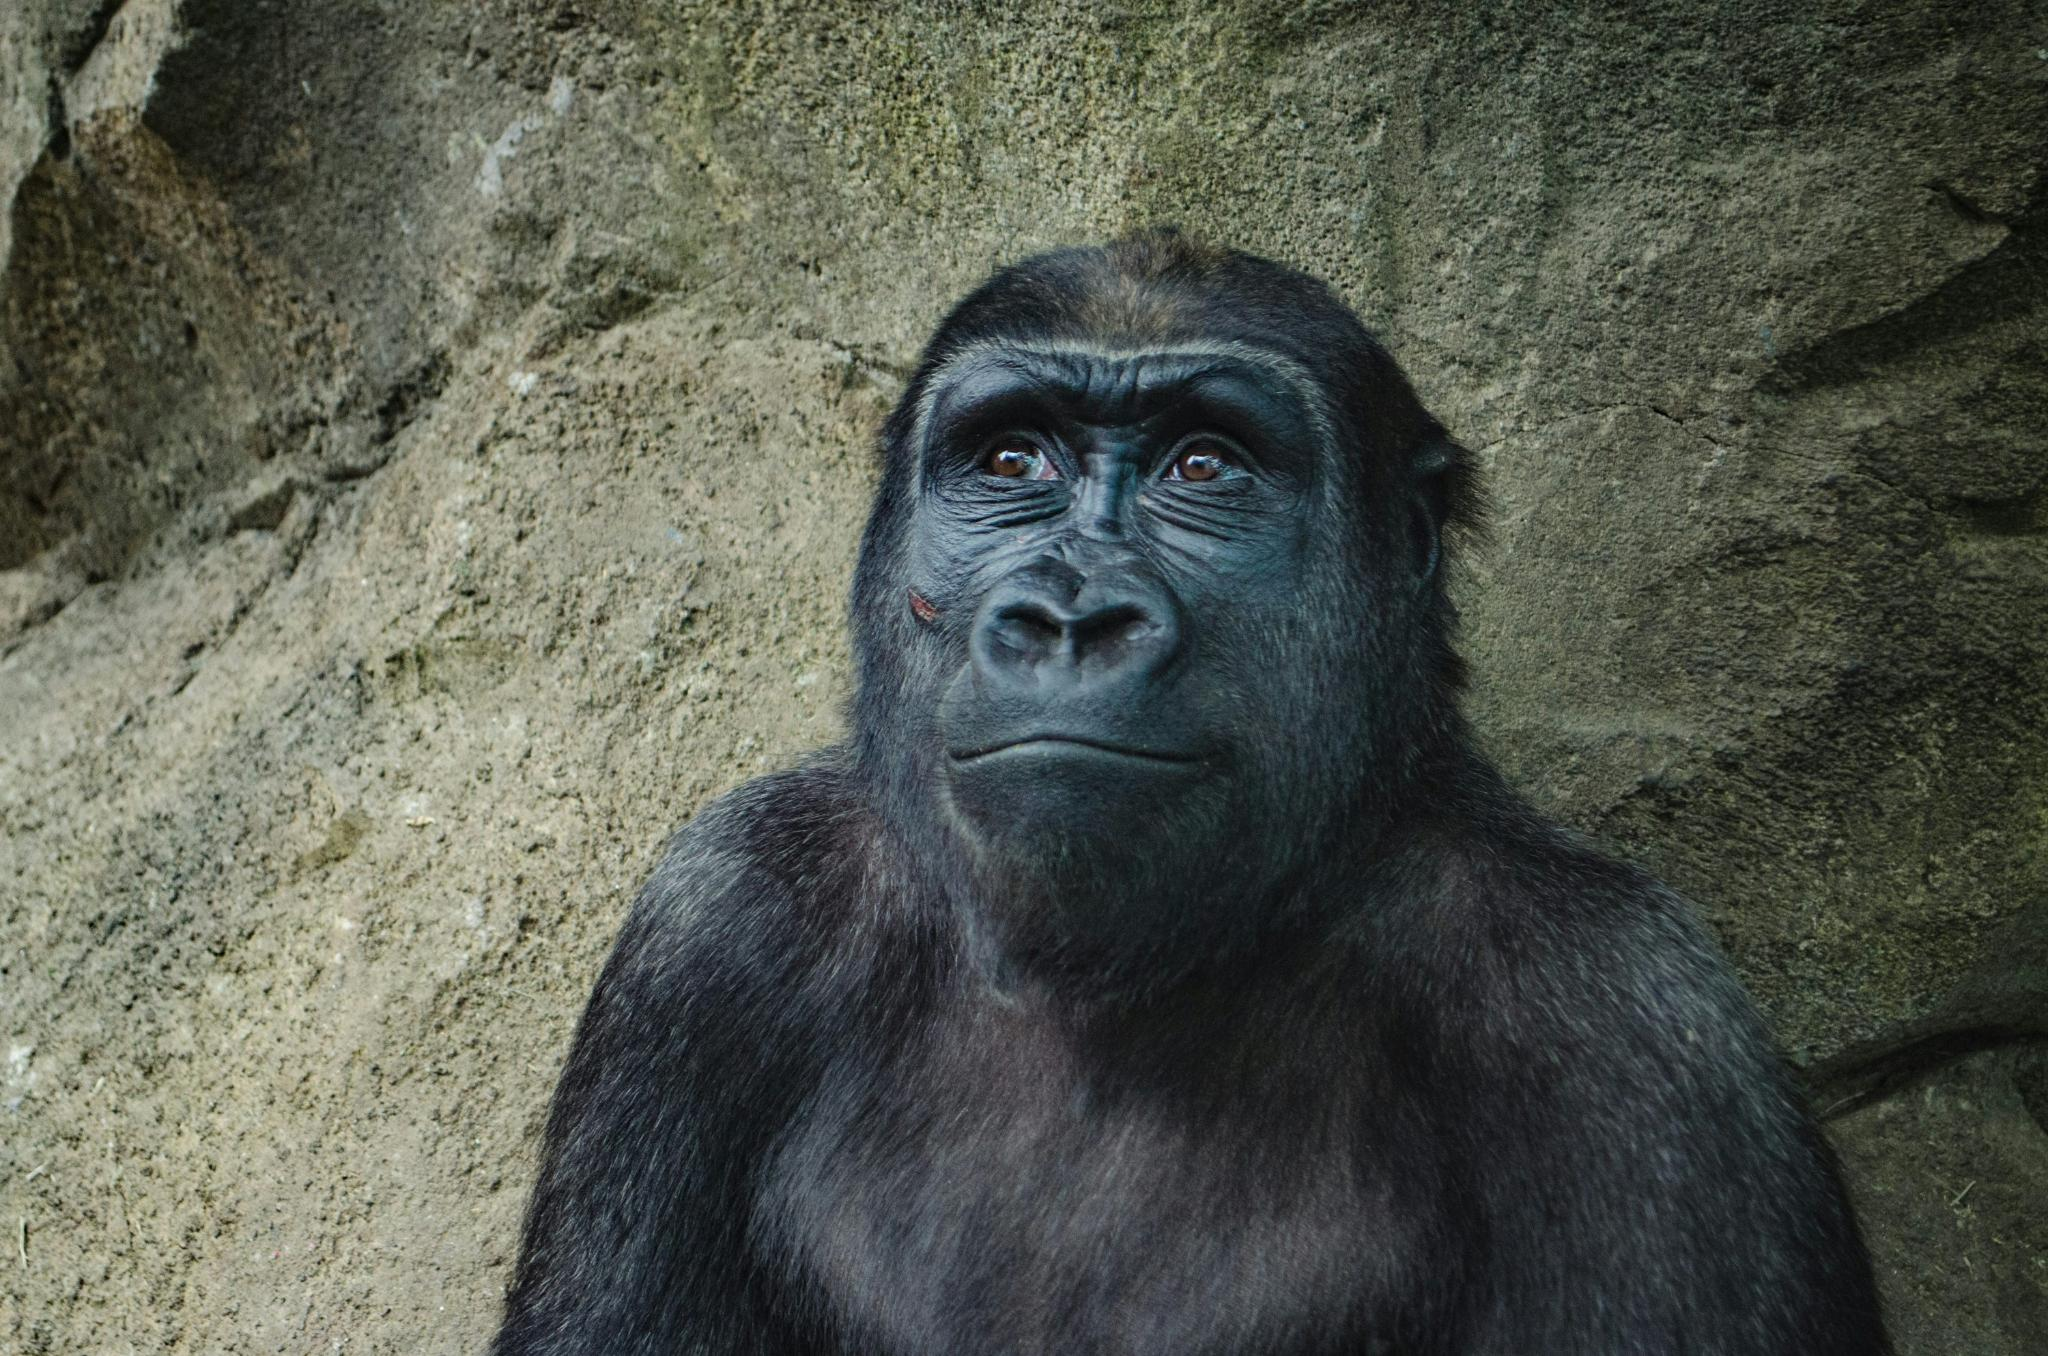gorille_Autres: (549, 98, 1891, 1356)
